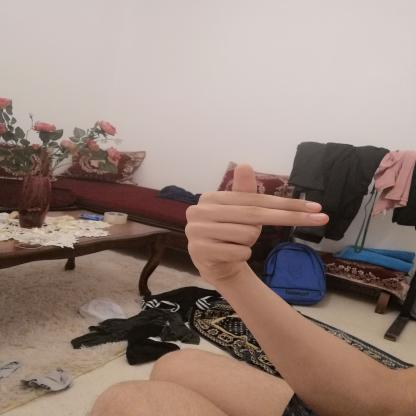GHAYN: (173, 157, 337, 285)
